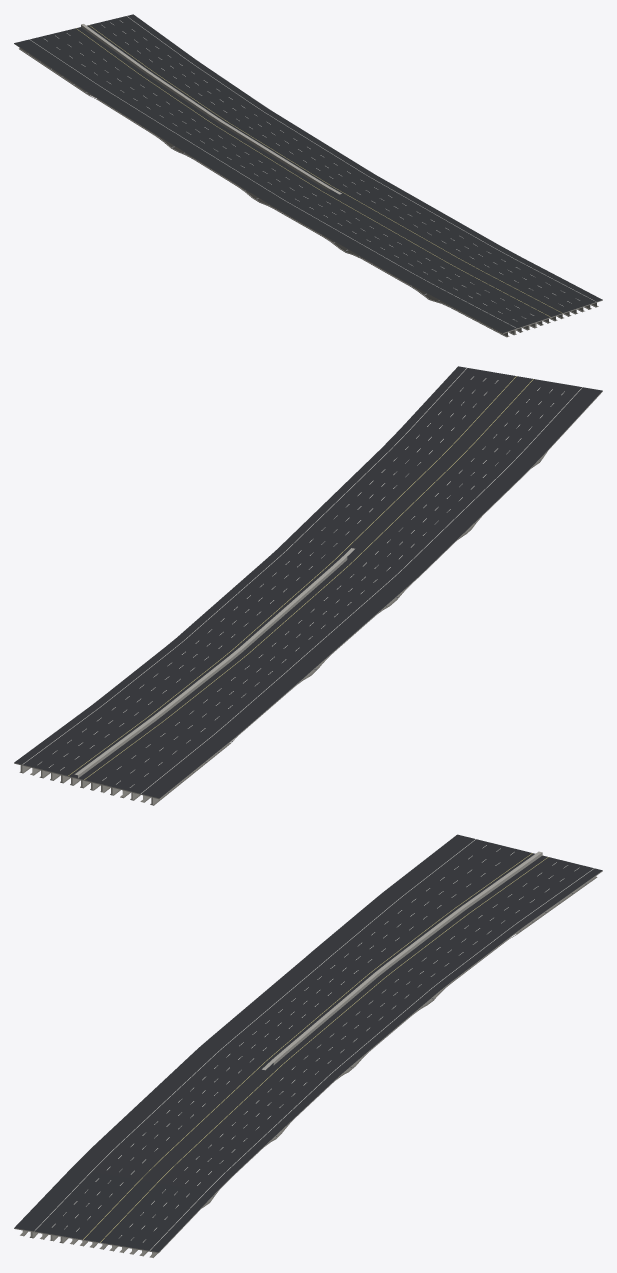
The model's file is br_r6_quesnell_1.gltf.
The picture shows the model from 3 angles, top to bottom: view 1: azimuth 30°, elevation 25°; view 2: azimuth 150°, elevation 25°; view 3: azimuth 330°, elevation 25°; orthographic projection. The views are drawn at different scales.
Visible parts, largest first — view 1: br_r6_quesnell_1; view 2: br_r6_quesnell_1; view 3: br_r6_quesnell_1.
Boxes of the visible parts, box(x1,y1,x2,y2) form: br_r6_quesnell_1: box(14, 14, 602, 337); br_r6_quesnell_1: box(14, 366, 602, 805); br_r6_quesnell_1: box(14, 834, 602, 1257).
Size of the model in its own units: 74.57 by 5.35 by 318.
